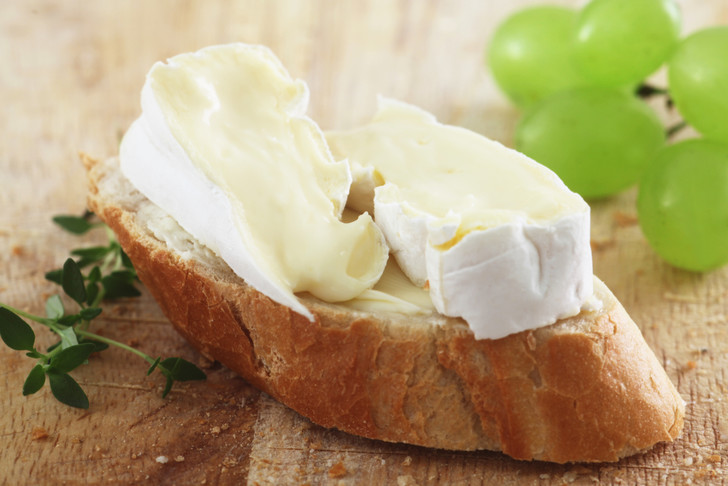camembert: (115, 37, 390, 328), (321, 86, 590, 345)
